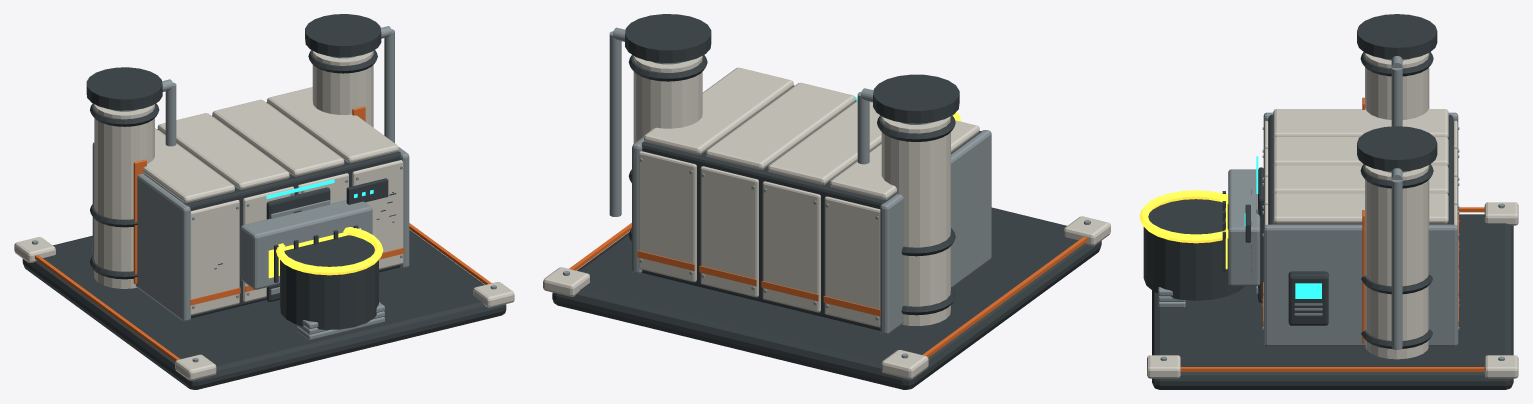
File: SM_AdvancedAlloyFoundry_Body.001.fbx
3 views of the same model, side by side, from view 1: azimuth 30°, elevation 25°; view 2: azimuth 150°, elevation 25°; view 3: azimuth 270°, elevation 25° (orthographic). The views are drawn at different scales.
Parts seen in each view (by area): view 1: SM_AdvancedAlloyFoundry_Body.001; view 2: SM_AdvancedAlloyFoundry_Body.001; view 3: SM_AdvancedAlloyFoundry_Body.001.
Boxes of the visible parts, x1,y1,x2,y2 form: SM_AdvancedAlloyFoundry_Body.001: [14, 14, 514, 389]; SM_AdvancedAlloyFoundry_Body.001: [543, 14, 1110, 389]; SM_AdvancedAlloyFoundry_Body.001: [1139, 14, 1518, 389].
Size of the model in its own units: 492 by 472 by 308.
